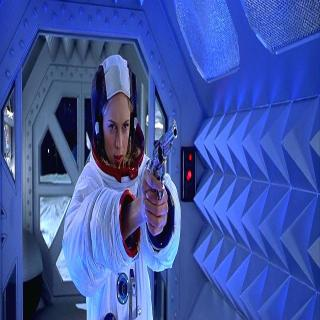gun: (144, 115, 178, 240)
